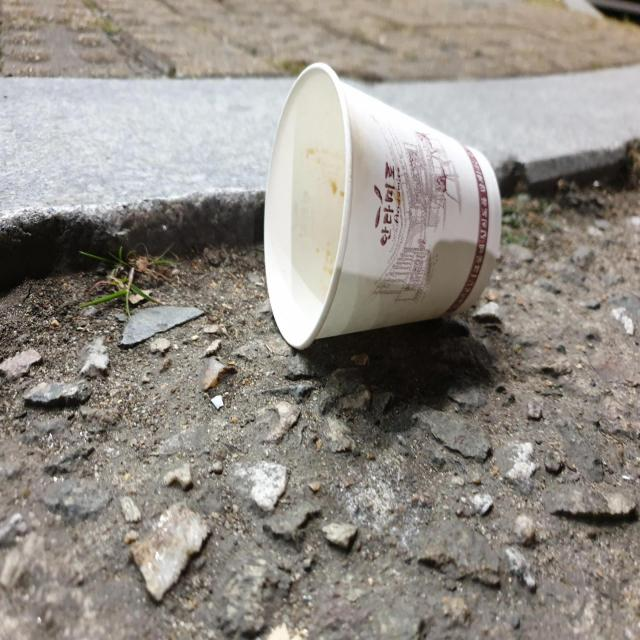paperpack: (264, 62, 502, 349)
